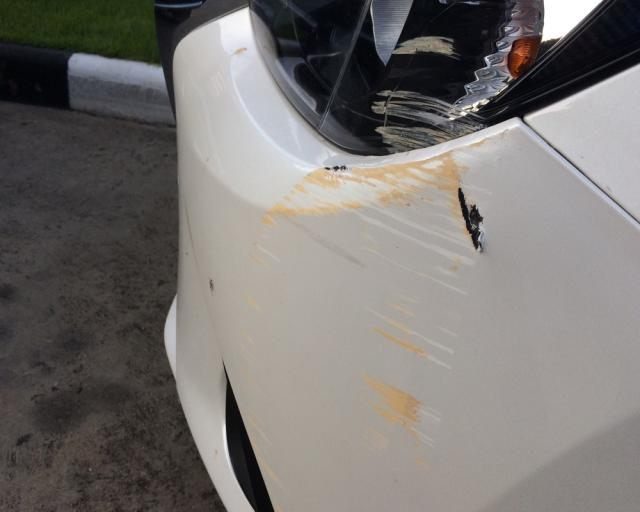scratch: (237, 128, 514, 488), (365, 34, 493, 152)
